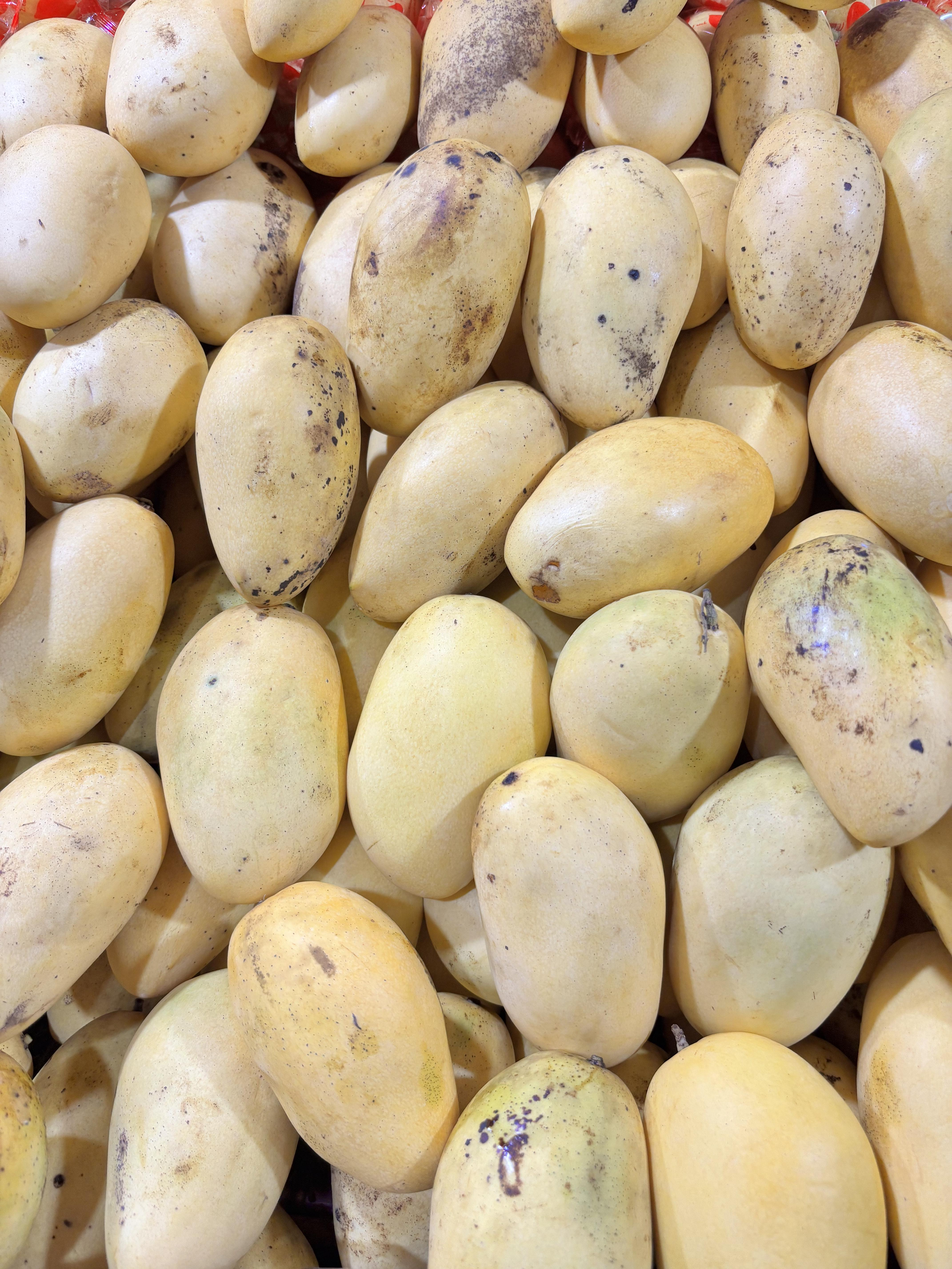mango: (228, 882, 458, 1193), (471, 757, 665, 1067), (156, 603, 347, 904), (521, 146, 702, 430), (196, 315, 360, 608), (726, 109, 885, 369)
occluded: (667, 756, 893, 1046), (745, 534, 952, 847), (347, 596, 551, 899), (105, 971, 298, 1269), (645, 1033, 887, 1269), (345, 139, 530, 437), (504, 417, 774, 618), (349, 381, 567, 623), (0, 743, 169, 1039), (428, 1052, 652, 1269), (551, 590, 750, 823), (0, 495, 174, 755), (12, 299, 207, 502), (808, 320, 952, 565), (15, 1012, 143, 1269), (152, 149, 317, 345), (857, 933, 952, 1269), (657, 305, 809, 514), (106, 0, 281, 177), (0, 125, 150, 328), (105, 560, 244, 761), (417, 0, 576, 170), (107, 830, 250, 998), (710, 0, 839, 173), (295, 6, 422, 177), (572, 18, 711, 164), (303, 540, 399, 746), (292, 162, 397, 345), (838, 0, 952, 159), (882, 89, 952, 339), (302, 809, 423, 945), (0, 18, 112, 153), (668, 158, 738, 328), (754, 509, 904, 582), (481, 569, 581, 678), (332, 1167, 432, 1269), (0, 1054, 47, 1269), (424, 880, 501, 1005), (110, 172, 184, 300), (438, 993, 515, 1113), (47, 952, 144, 1043), (898, 806, 952, 953), (244, 0, 362, 63), (552, 0, 685, 54), (791, 1036, 859, 1120), (234, 1207, 318, 1269), (0, 408, 26, 603), (0, 311, 46, 417), (744, 687, 795, 759), (916, 559, 952, 633), (522, 167, 558, 220), (782, 0, 845, 10)
